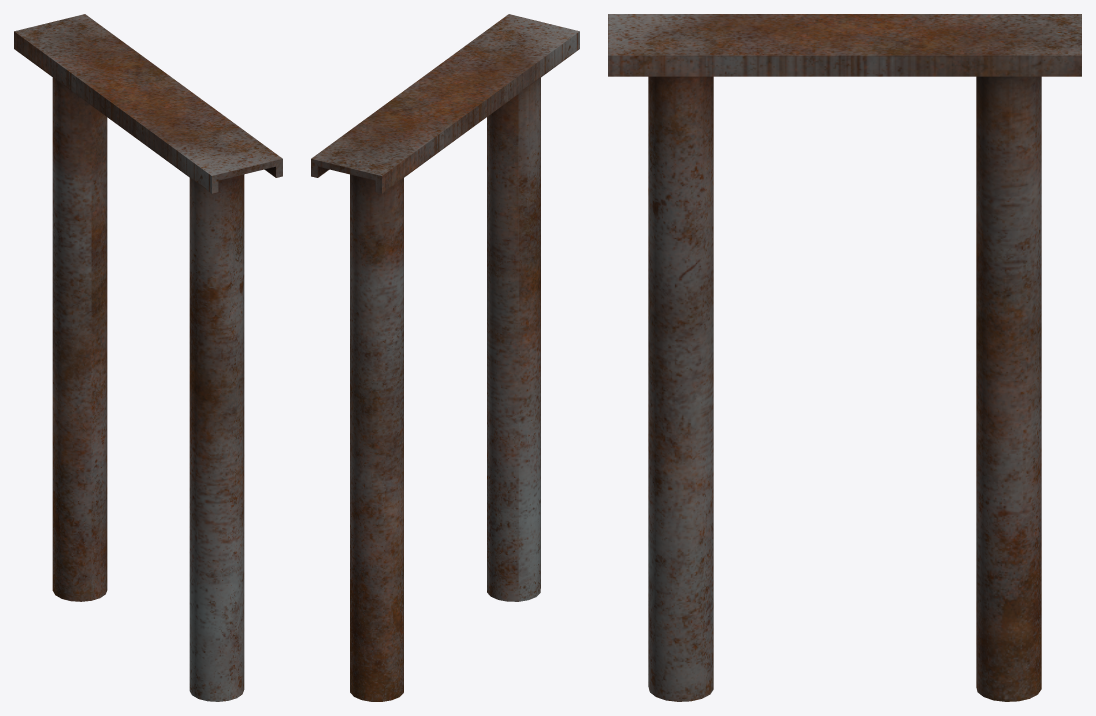
The model's file is SM_PipeBigSupport02.FBX.
3 views of the same model, side by side, from view 1: azimuth 30°, elevation 25°; view 2: azimuth 150°, elevation 25°; view 3: azimuth 270°, elevation 25° (orthographic). The views are drawn at different scales.
Visible parts, largest first — view 1: SM_PipeBigSupport02_LOD0; view 2: SM_PipeBigSupport02_LOD0; view 3: SM_PipeBigSupport02_LOD0.
Part boxes in pixels (<box>): SM_PipeBigSupport02_LOD0: <box>14,14,282,701</box>; SM_PipeBigSupport02_LOD0: <box>311,14,579,701</box>; SM_PipeBigSupport02_LOD0: <box>608,14,1081,701</box>.
Bounding box in the file's own units: 12 × 57.84 × 88.
